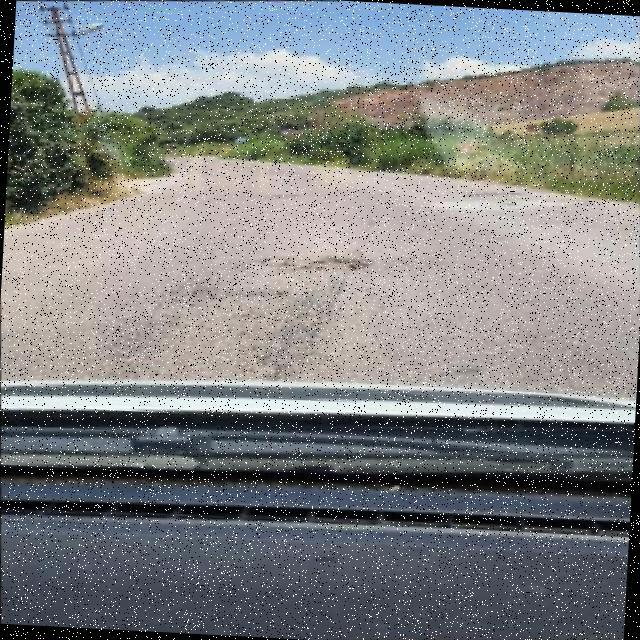Pothole: (261, 256, 373, 274)
